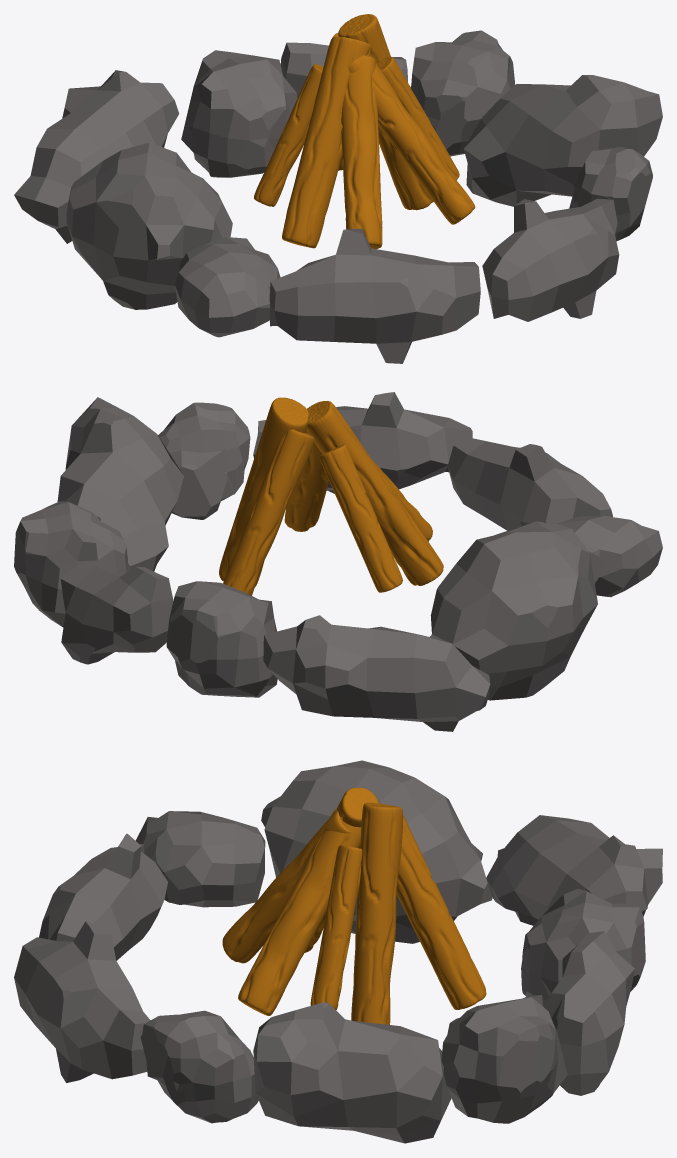
File: CampFire.glb
3 renders of one model, top to bottom at view 1: azimuth 30°, elevation 25°; view 2: azimuth 150°, elevation 25°; view 3: azimuth 270°, elevation 25°, orthographic. The views are drawn at different scales.
Parts seen in each view (by area): view 1: Procedural Low Poly Rock.007, Procedural Low Poly Rock.004, Procedural Low Poly Rock.001, Procedural Low Poly Rock.003, Procedural Low Poly Rock.002, Procedural Low Poly Rock.008, Procedural Low Poly Rock.009, Procedural Low Poly Rock.005, Cylinder.004, Cylinder.008, Cylinder.007, Procedural Low Poly Rock.006 (+4 smaller); view 2: Procedural Low Poly Rock.007, Procedural Low Poly Rock.002, Procedural Low Poly Rock.001, Procedural Low Poly Rock.008, Procedural Low Poly Rock.004, Procedural Low Poly Rock, Procedural Low Poly Rock.009, Procedural Low Poly Rock.006, Procedural Low Poly Rock.003, Cylinder.004, Cylinder.009, Procedural Low Poly Rock.005 (+4 smaller); view 3: Procedural Low Poly Rock.001, Procedural Low Poly Rock.003, Procedural Low Poly Rock.007, Procedural Low Poly Rock.009, Procedural Low Poly Rock.002, Procedural Low Poly Rock.005, Procedural Low Poly Rock.006, Procedural Low Poly Rock, Procedural Low Poly Rock.004, Cylinder.006, Procedural Low Poly Rock.008, Cylinder.007 (+4 smaller).
Boxes of the visible parts, left/top/right/bottom form: Procedural Low Poly Rock.007: left=66, top=142, right=232, bottom=309; Procedural Low Poly Rock.004: left=269, top=228, right=480, bottom=363; Procedural Low Poly Rock.001: left=463, top=75, right=662, bottom=206; Procedural Low Poly Rock.003: left=482, top=198, right=619, bottom=321; Procedural Low Poly Rock.002: left=14, top=70, right=179, bottom=243; Procedural Low Poly Rock.008: left=181, top=50, right=297, bottom=177; Procedural Low Poly Rock.009: left=410, top=30, right=515, bottom=156; Procedural Low Poly Rock.005: left=175, top=237, right=280, bottom=337; Cylinder.004: left=282, top=36, right=371, bottom=248; Cylinder.008: left=341, top=55, right=382, bottom=248; Cylinder.007: left=348, top=55, right=475, bottom=224; Procedural Low Poly Rock.006: left=569, top=146, right=652, bottom=241; Procedural Low Poly Rock.007: left=430, top=521, right=604, bottom=700; Procedural Low Poly Rock.002: left=263, top=615, right=490, bottom=731; Procedural Low Poly Rock.001: left=57, top=397, right=183, bottom=571; Procedural Low Poly Rock.008: left=166, top=581, right=277, bottom=697; Procedural Low Poly Rock.004: left=447, top=437, right=612, bottom=530; Procedural Low Poly Rock: left=60, top=566, right=173, bottom=664; Procedural Low Poly Rock.009: left=14, top=501, right=128, bottom=627; Procedural Low Poly Rock.006: left=158, top=402, right=250, bottom=519; Procedural Low Poly Rock.003: left=253, top=392, right=472, bottom=493; Cylinder.004: left=306, top=401, right=443, bottom=585; Cylinder.009: left=223, top=429, right=314, bottom=595; Procedural Low Poly Rock.005: left=557, top=516, right=662, bottom=597; Procedural Low Poly Rock.001: left=253, top=1002, right=451, bottom=1143; Procedural Low Poly Rock.003: left=14, top=921, right=150, bottom=1082; Procedural Low Poly Rock.007: left=261, top=760, right=492, bottom=943; Procedural Low Poly Rock.009: left=441, top=995, right=567, bottom=1123; Procedural Low Poly Rock.002: left=486, top=815, right=662, bottom=925; Procedural Low Poly Rock.005: left=135, top=811, right=265, bottom=907; Procedural Low Poly Rock.006: left=140, top=1010, right=258, bottom=1123; Procedural Low Poly Rock: left=543, top=931, right=634, bottom=1095; Procedural Low Poly Rock.004: left=39, top=833, right=167, bottom=960; Cylinder.006: left=351, top=802, right=403, bottom=1024; Procedural Low Poly Rock.008: left=521, top=888, right=645, bottom=1006; Cylinder.007: left=238, top=809, right=361, bottom=1015.
Size of the model in its own units: 8.1 by 3.29 by 7.69.
